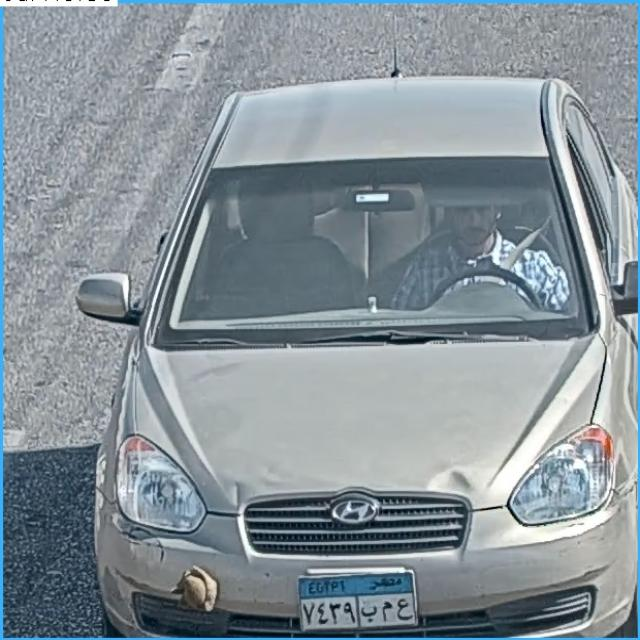windshield: (162, 163, 582, 334)
